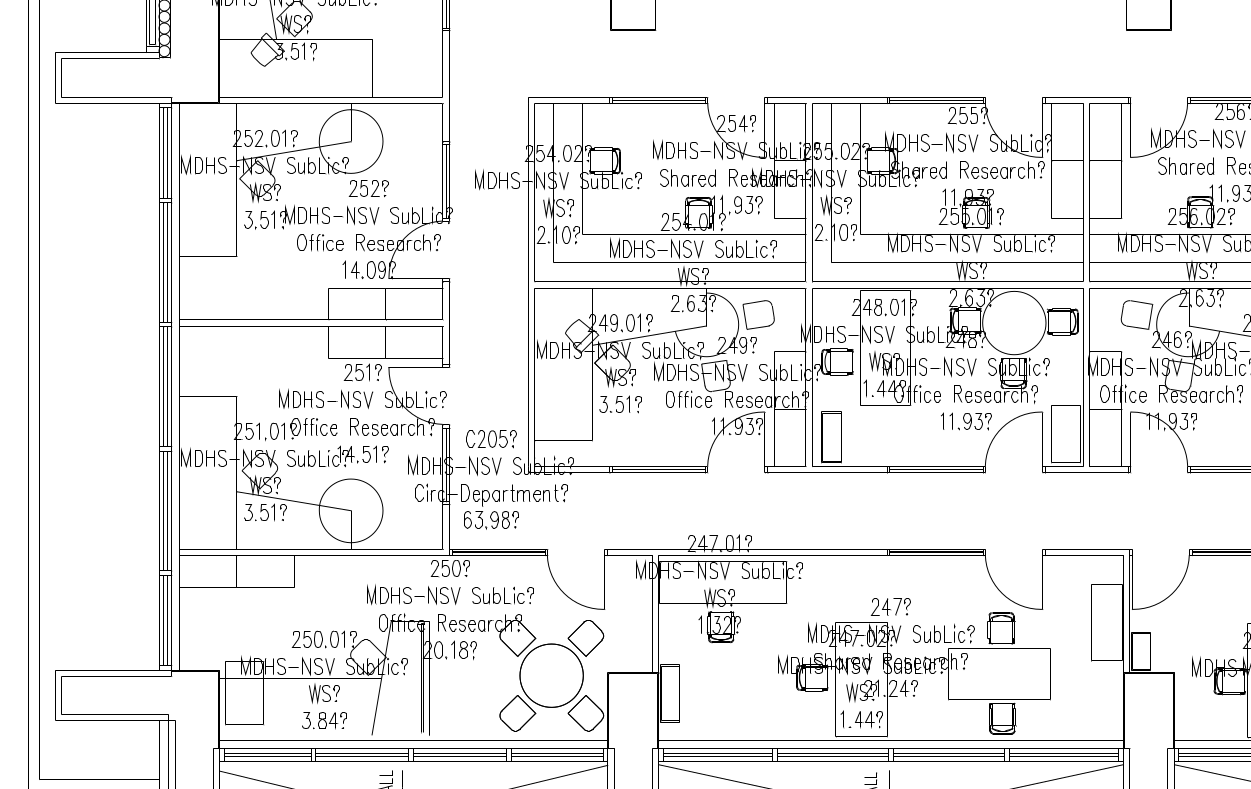door: (541, 555, 610, 617), (699, 412, 768, 474), (976, 407, 1045, 469), (1125, 409, 1194, 471), (977, 553, 1046, 615), (1130, 551, 1199, 613), (1126, 100, 1195, 162), (978, 101, 1047, 163), (385, 218, 441, 280)
